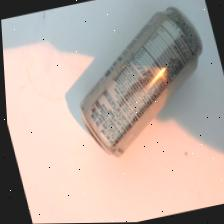metal: (41, 0, 224, 187)
